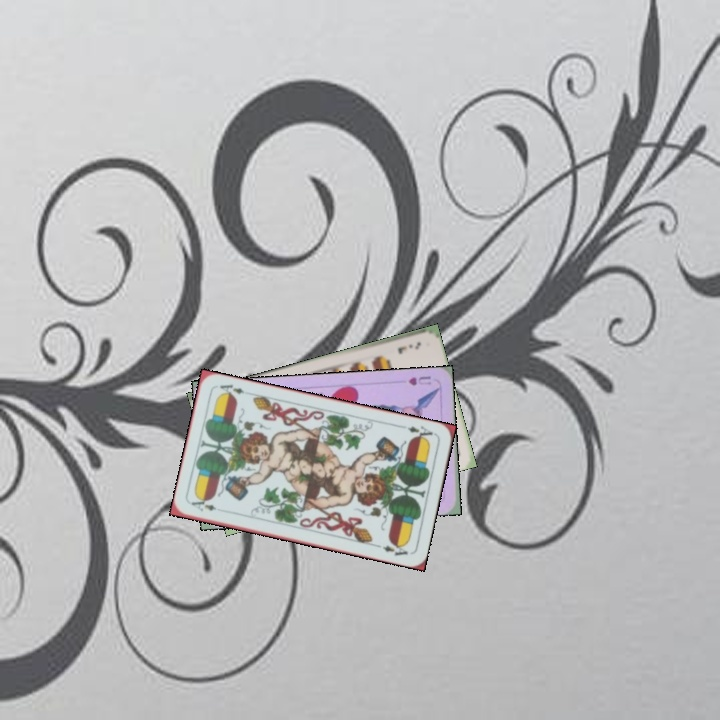E7: (393, 337, 423, 357)
EA: (403, 422, 435, 443), (187, 495, 219, 514)
HU: (404, 372, 434, 388)
